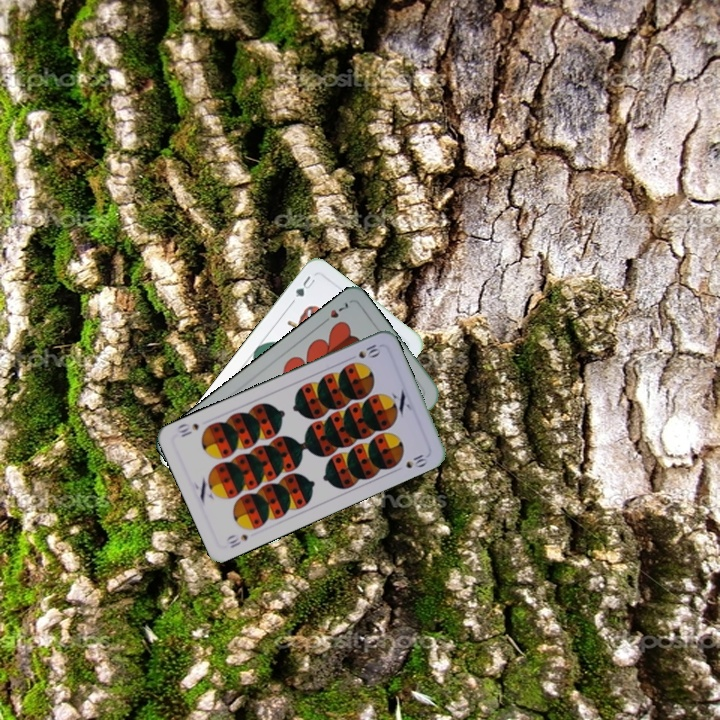GU: (291, 272, 318, 300)
H7: (317, 298, 353, 327)
S10: (354, 340, 383, 361), (222, 530, 250, 551)
